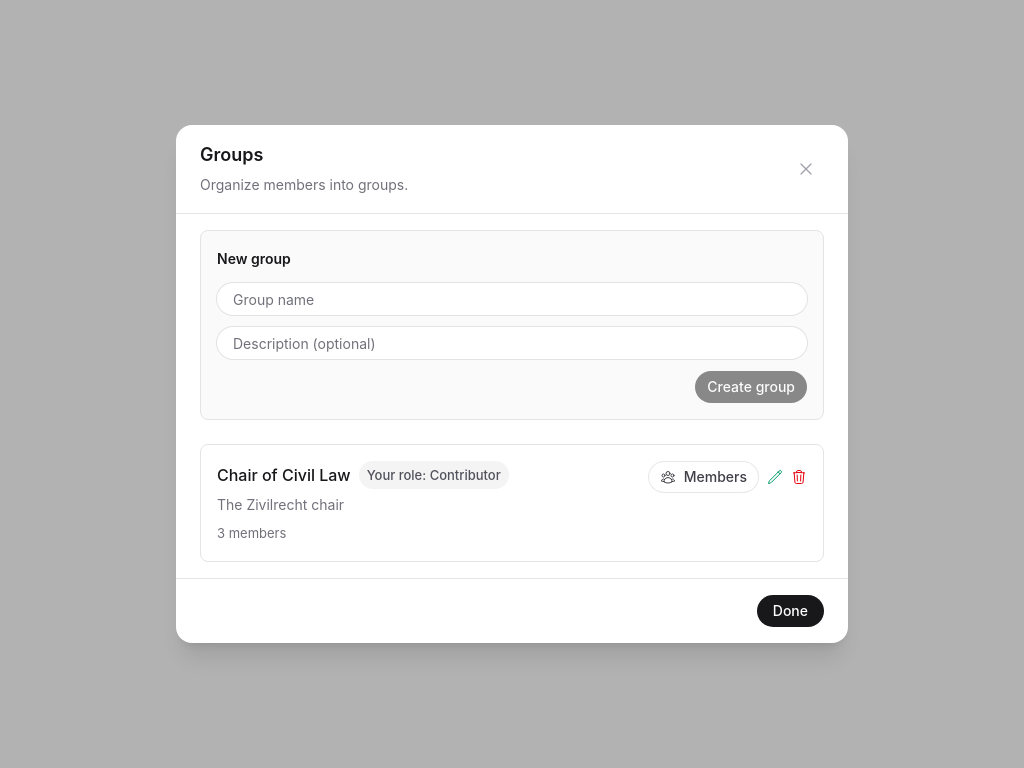
it: OrgGroups › edit group (org admin) › keeps the form open and shows the API detail on a failed save
Click the button with test id "group-edit-grp-1". click: coordinates (775, 477)
box: [767, 469, 783, 485]
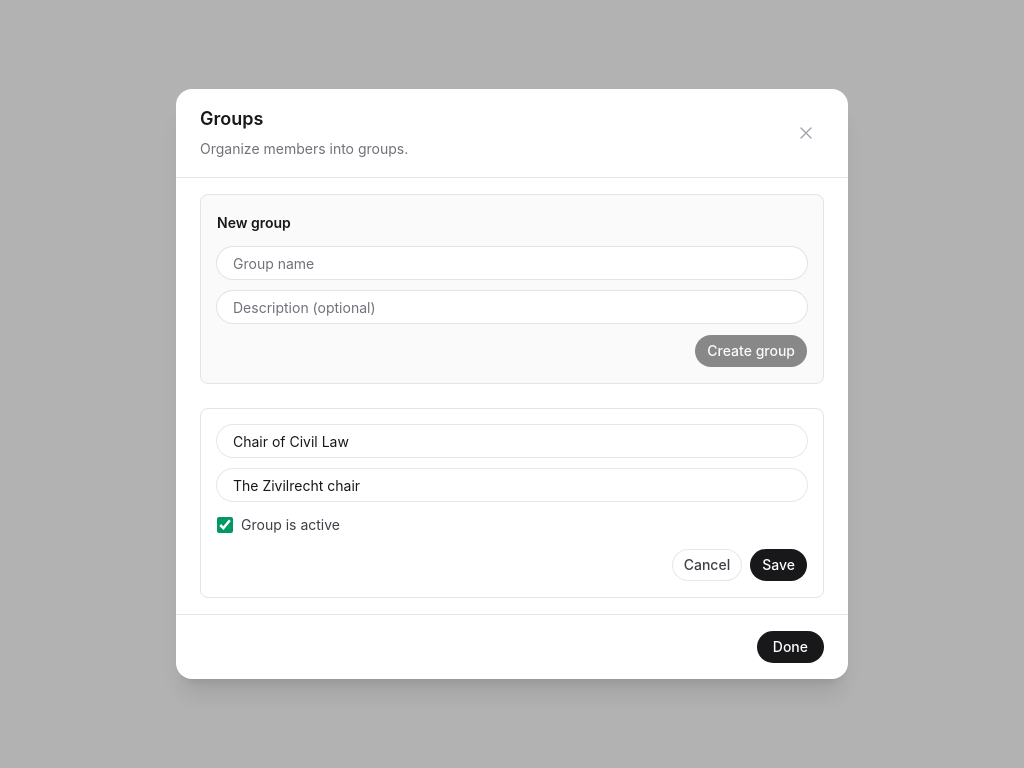
Click the button with test id "group-edit-save-grp-1". click: coordinates (779, 565)
box: [750, 549, 807, 581]
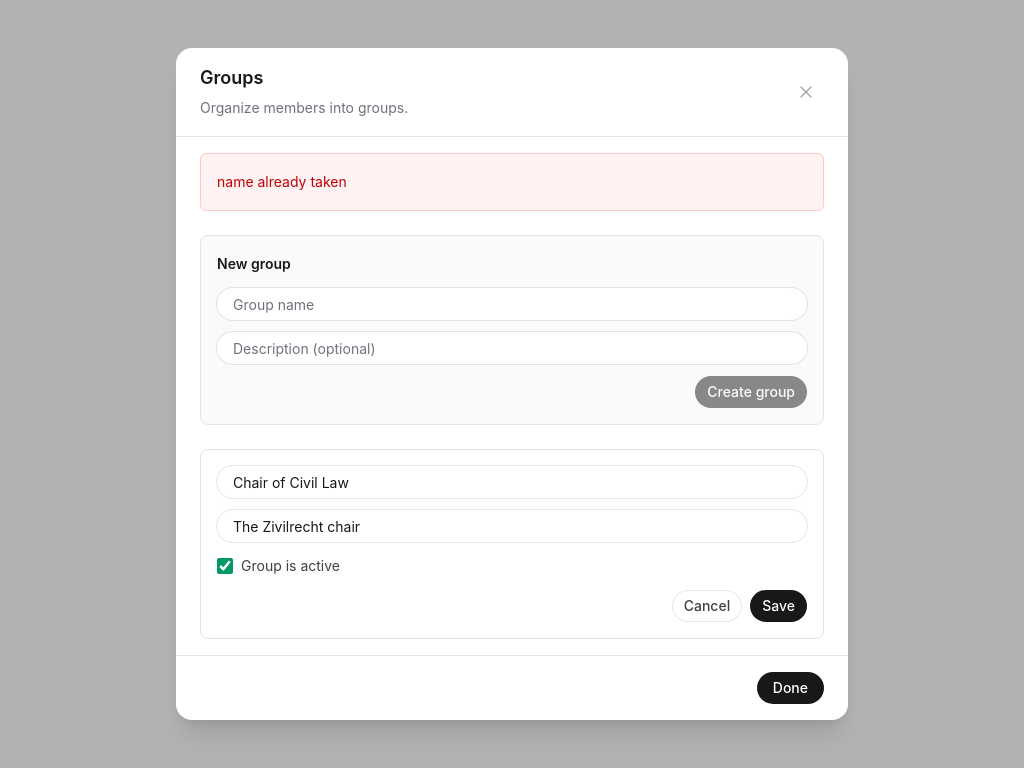
Now the field with test id "group-edit-name-grp-1" is shown, box [217, 466, 807, 498]
Now the text with test id "org-groups-message" reads "name already taken", box [217, 173, 347, 190]
